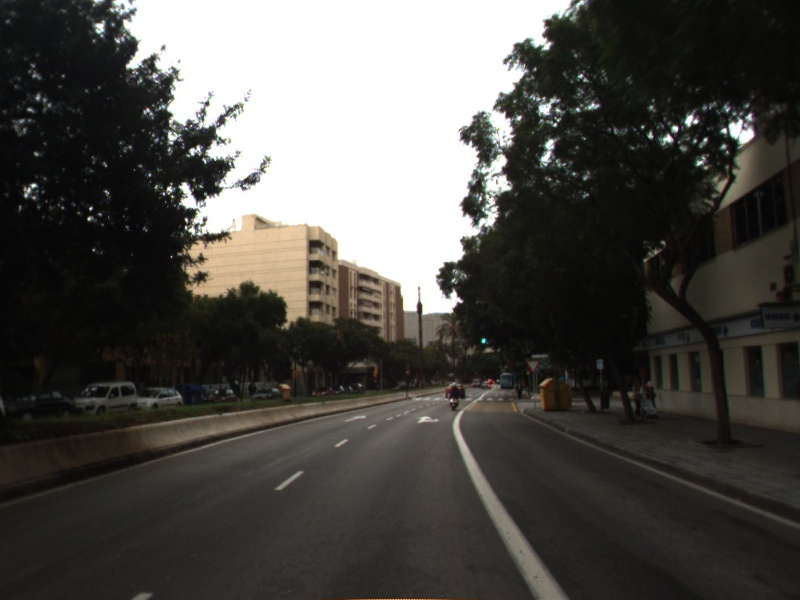STRAIGHT: (342, 412, 369, 424)
STRAIGHT_RIGHT: (414, 414, 441, 425)
